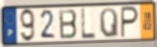2: (39, 8, 57, 42)
9: (19, 8, 36, 43)
B: (58, 8, 79, 41)
L: (80, 7, 98, 40)
P: (120, 6, 140, 40)
Q: (99, 7, 120, 39)
